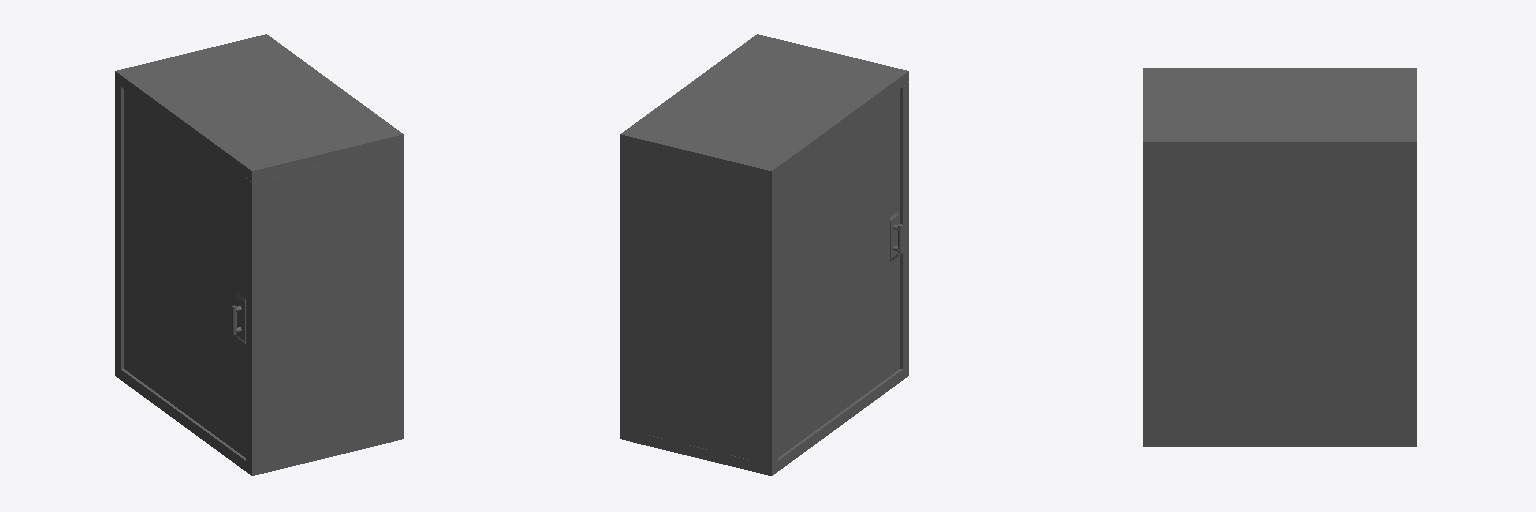
File: Fridge.obj
3 renders of one model, left to right at view 1: azimuth 30°, elevation 25°; view 2: azimuth 150°, elevation 25°; view 3: azimuth 270°, elevation 25°, orthographic.
Visible parts, largest first — view 1: pCube2, pCube4, pCube5, pCube6, pCube1, pCube3; view 2: pCube3, pCube4, pCube5, pCube6, pCube1, pCube2; view 3: pCube6, pCube5.
Boxes of the visible parts, box(x1,y1,x2,y2) form: pCube2: box(246, 148, 393, 464); pCube4: box(124, 89, 245, 457); pCube5: box(115, 36, 393, 181); pCube6: box(257, 34, 403, 440); pCube1: box(115, 365, 393, 475); pCube3: box(115, 82, 123, 369); pCube3: box(631, 149, 777, 464); pCube4: box(778, 89, 899, 457); pCube5: box(630, 37, 908, 182); pCube6: box(620, 34, 766, 441); pCube1: box(631, 366, 908, 475); pCube2: box(900, 82, 908, 368); pCube6: box(1143, 137, 1416, 446); pCube5: box(1143, 68, 1416, 136).
Bounding box in the file's own units: 2.64 × 4.85 × 3.95.